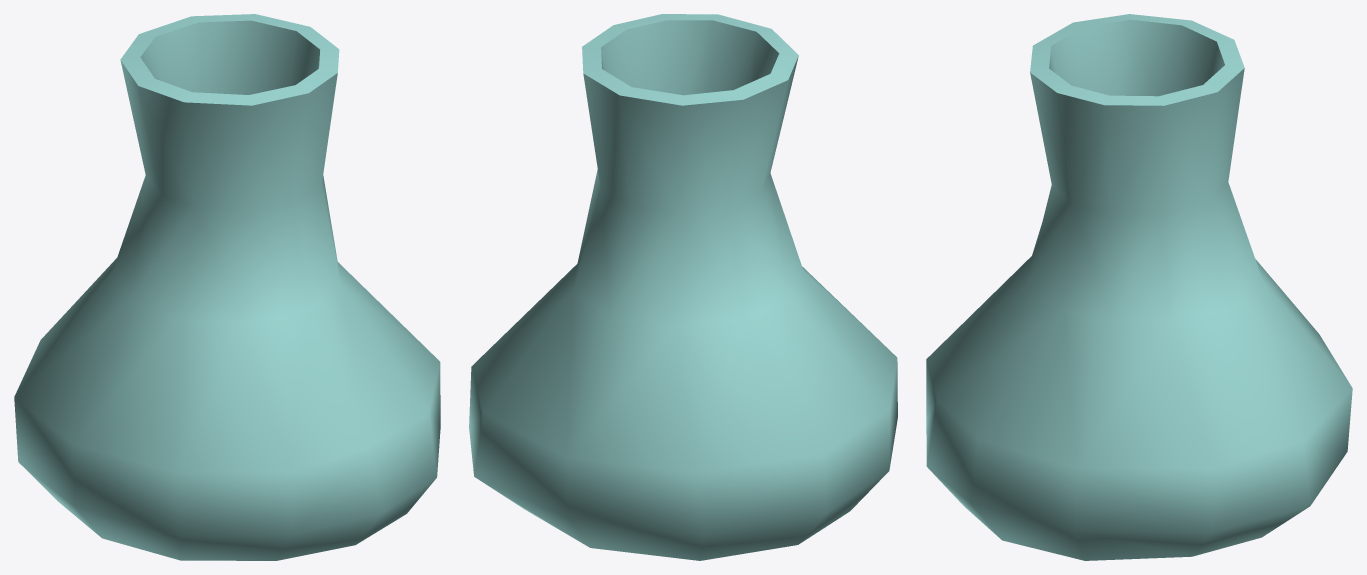
The model's file is SM_Round_Vase.fbx.
3 renders of one model, left to right at view 1: azimuth 30°, elevation 25°; view 2: azimuth 150°, elevation 25°; view 3: azimuth 270°, elevation 25°, orthographic.
Parts seen in each view (by area): view 1: SM_Round_Vase; view 2: SM_Round_Vase; view 3: SM_Round_Vase.
Part boxes in pixels (x1,y1,x2,y2): SM_Round_Vase: (14, 14, 440, 560); SM_Round_Vase: (469, 14, 897, 560); SM_Round_Vase: (926, 14, 1352, 560).
Size of the model in its own units: 0.1955 by 0.2233 by 0.2007.
